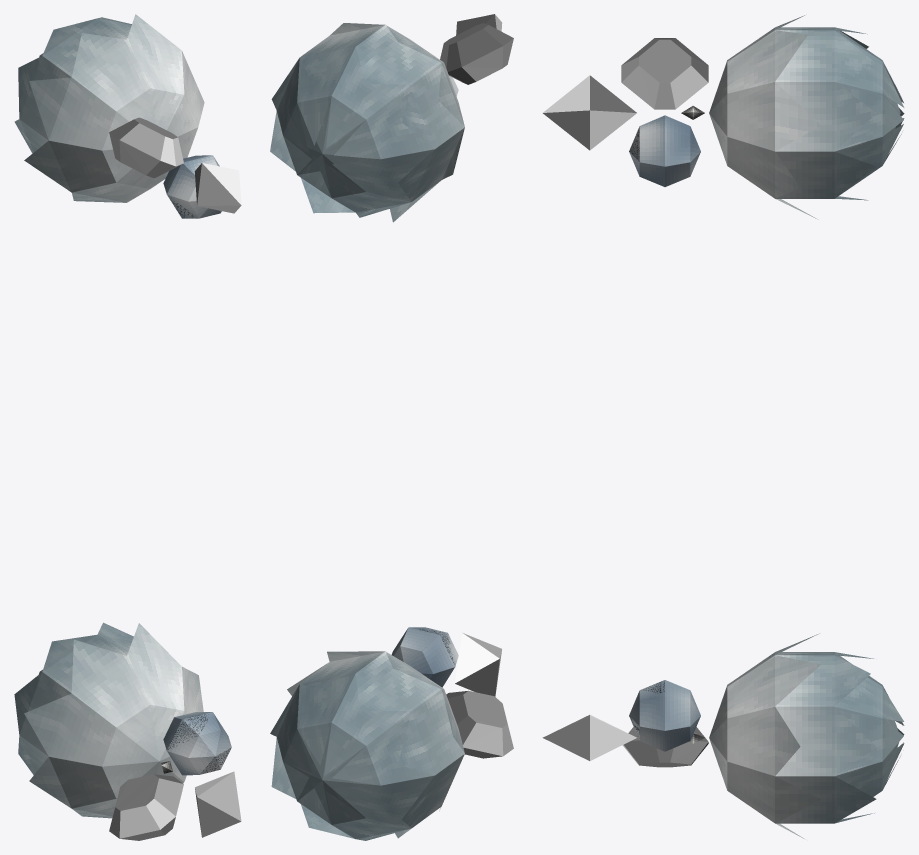
The model's file is options615.obj.
3 renders of one model, left to right at view 1: azimuth 30°, elevation 25°; view 2: azimuth 150°, elevation 25°; view 3: azimuth 270°, elevation 25°, orthographic.
Parts seen in each view (by area): view 1: options615; view 2: options615; view 3: options615.
Boxes of the visible parts, <box> form: options615: <box>14,14,241,840</box>; options615: <box>270,14,513,840</box>; options615: <box>542,15,904,838</box>.
Size of the model in its own units: 0.094 by 0.4219 by 0.1717.
Materials: 2 (2 with a texture image).
